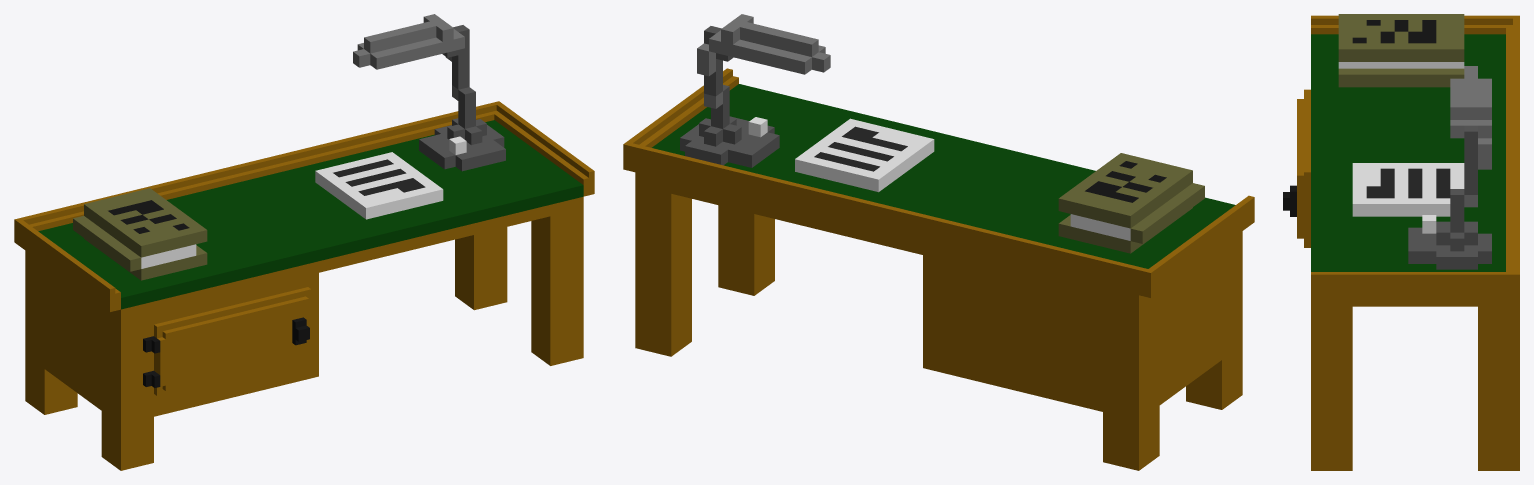
The model's file is table2.obj.
The picture shows the model from 3 angles, left to right: view 1: azimuth 30°, elevation 25°; view 2: azimuth 150°, elevation 25°; view 3: azimuth 270°, elevation 25°; orthographic projection. The views are drawn at different scales.
Visible parts, largest first — view 1: table2; view 2: table2; view 3: table2.
Part boxes in pixels (x1=…): table2: x1=14, y1=14, x2=594, y2=470; table2: x1=623, y1=14, x2=1254, y2=470; table2: x1=1283, y1=14, x2=1519, y2=470.
Bounding box in the file's own units: 88 × 52 × 34.
Materials: 1 (1 with a texture image).
